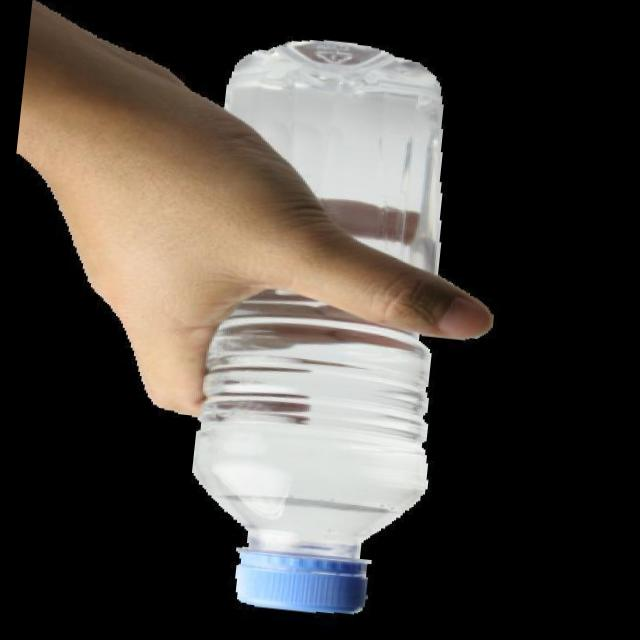plastic_bottle: (172, 31, 473, 624)
